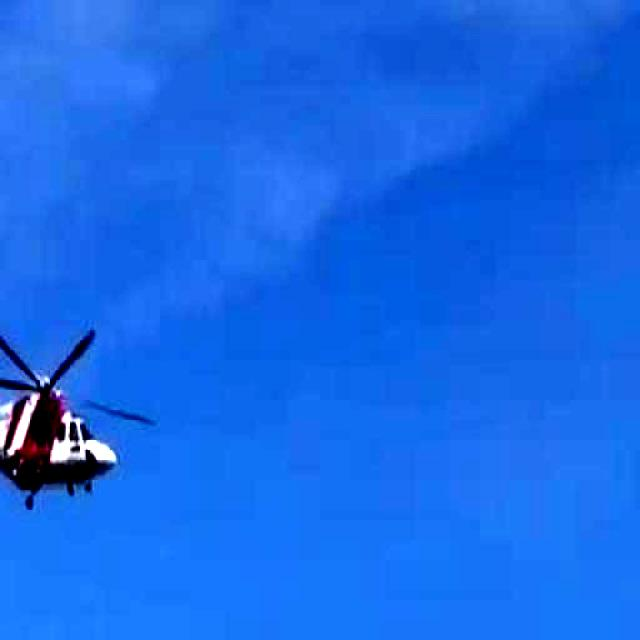drone: (0, 288, 169, 521)
